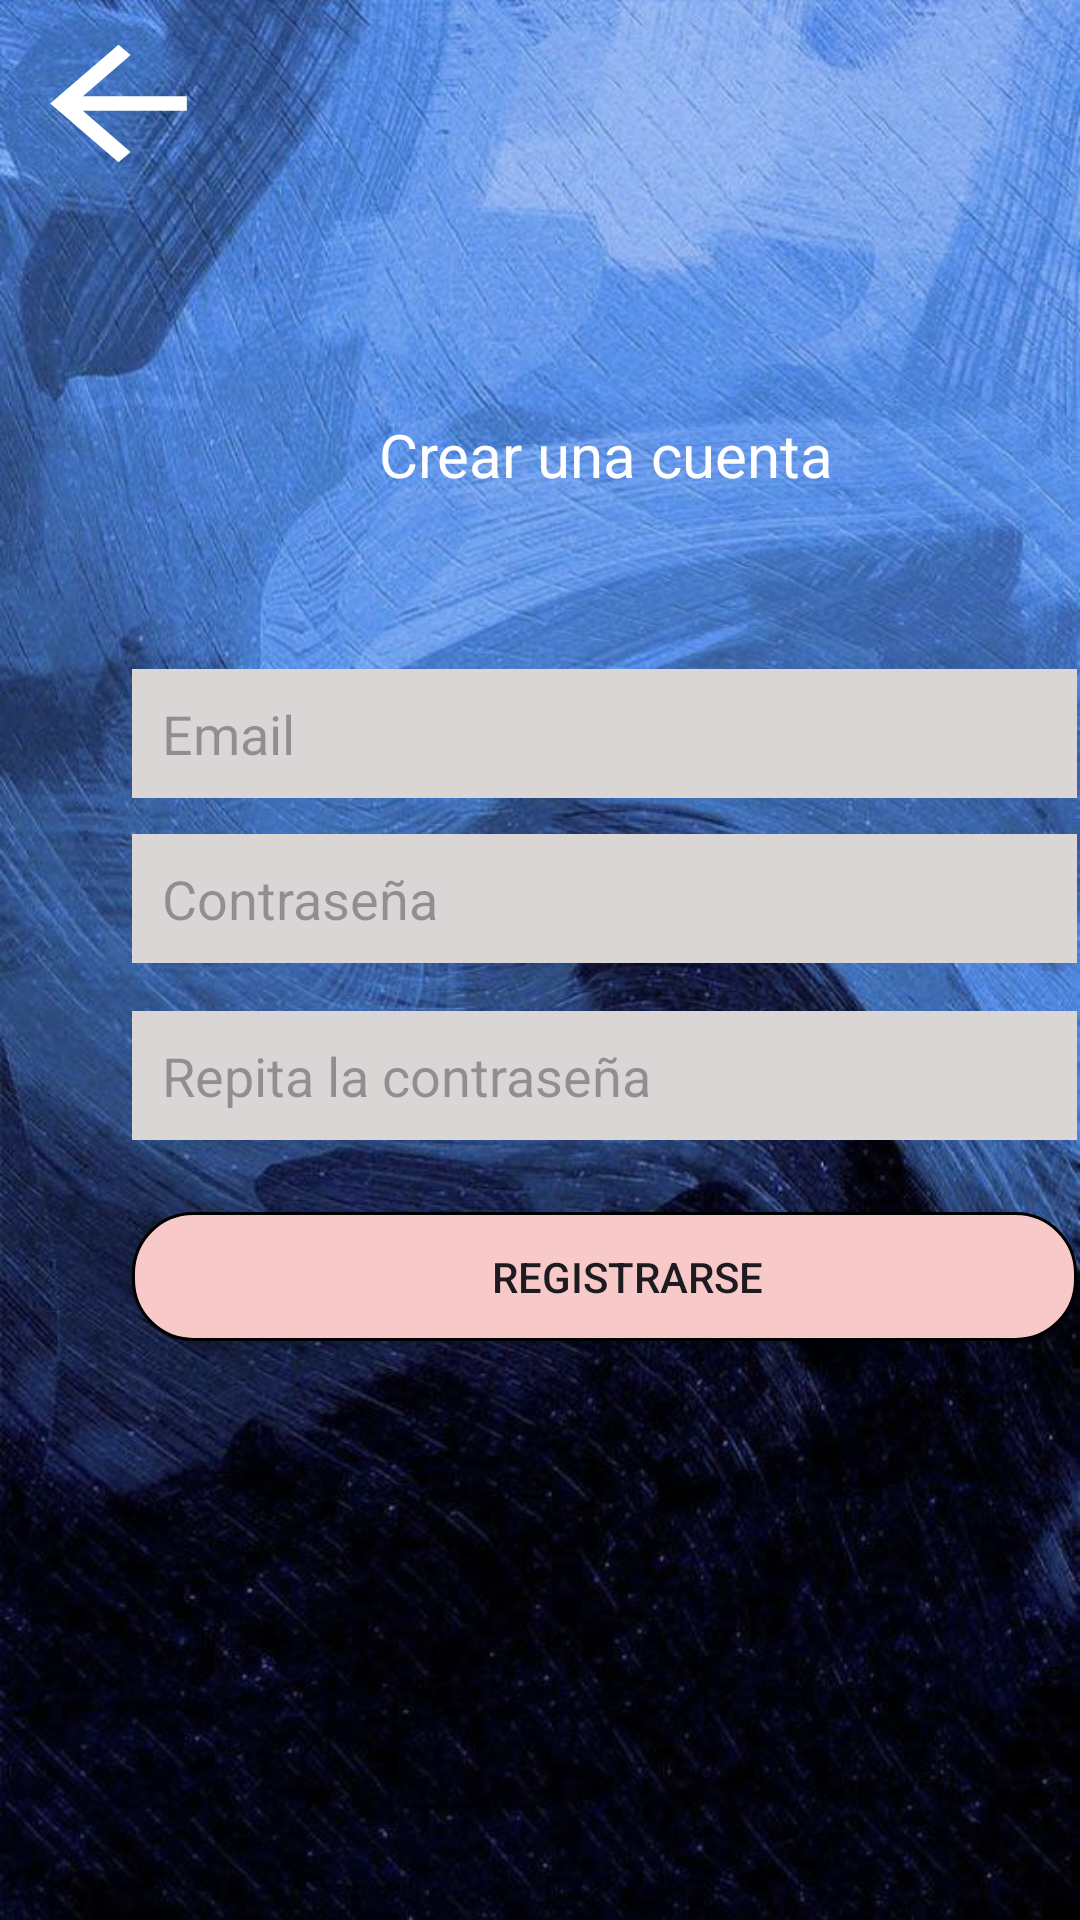

Icons on this 1080 x 1920 Android screen, each with the point to tap as [x,y]:
back: [118,103]
